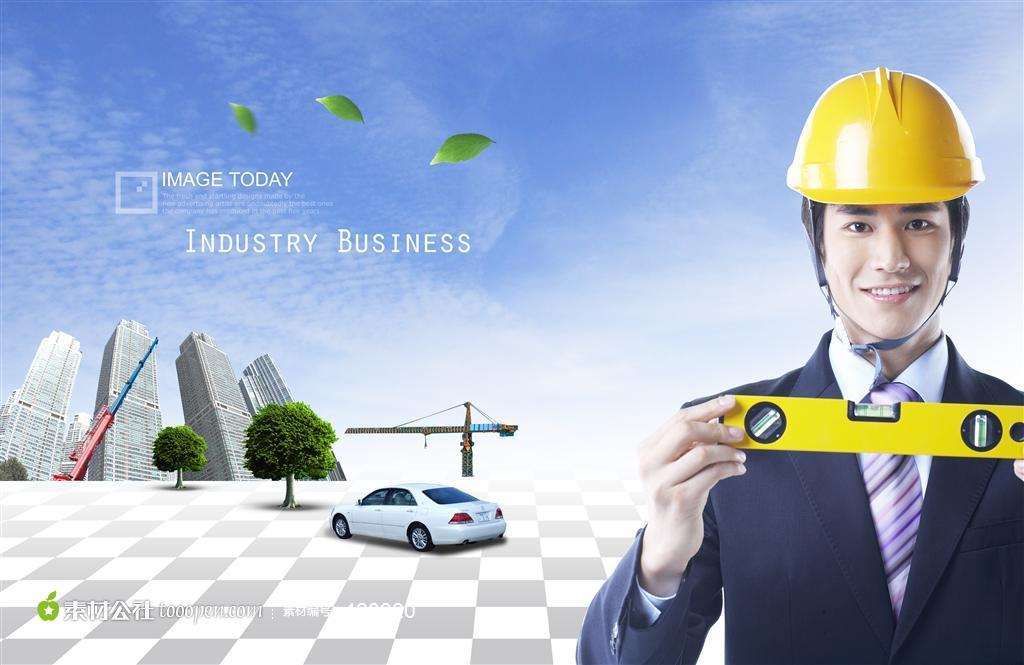helmet: (786, 66, 983, 206)
